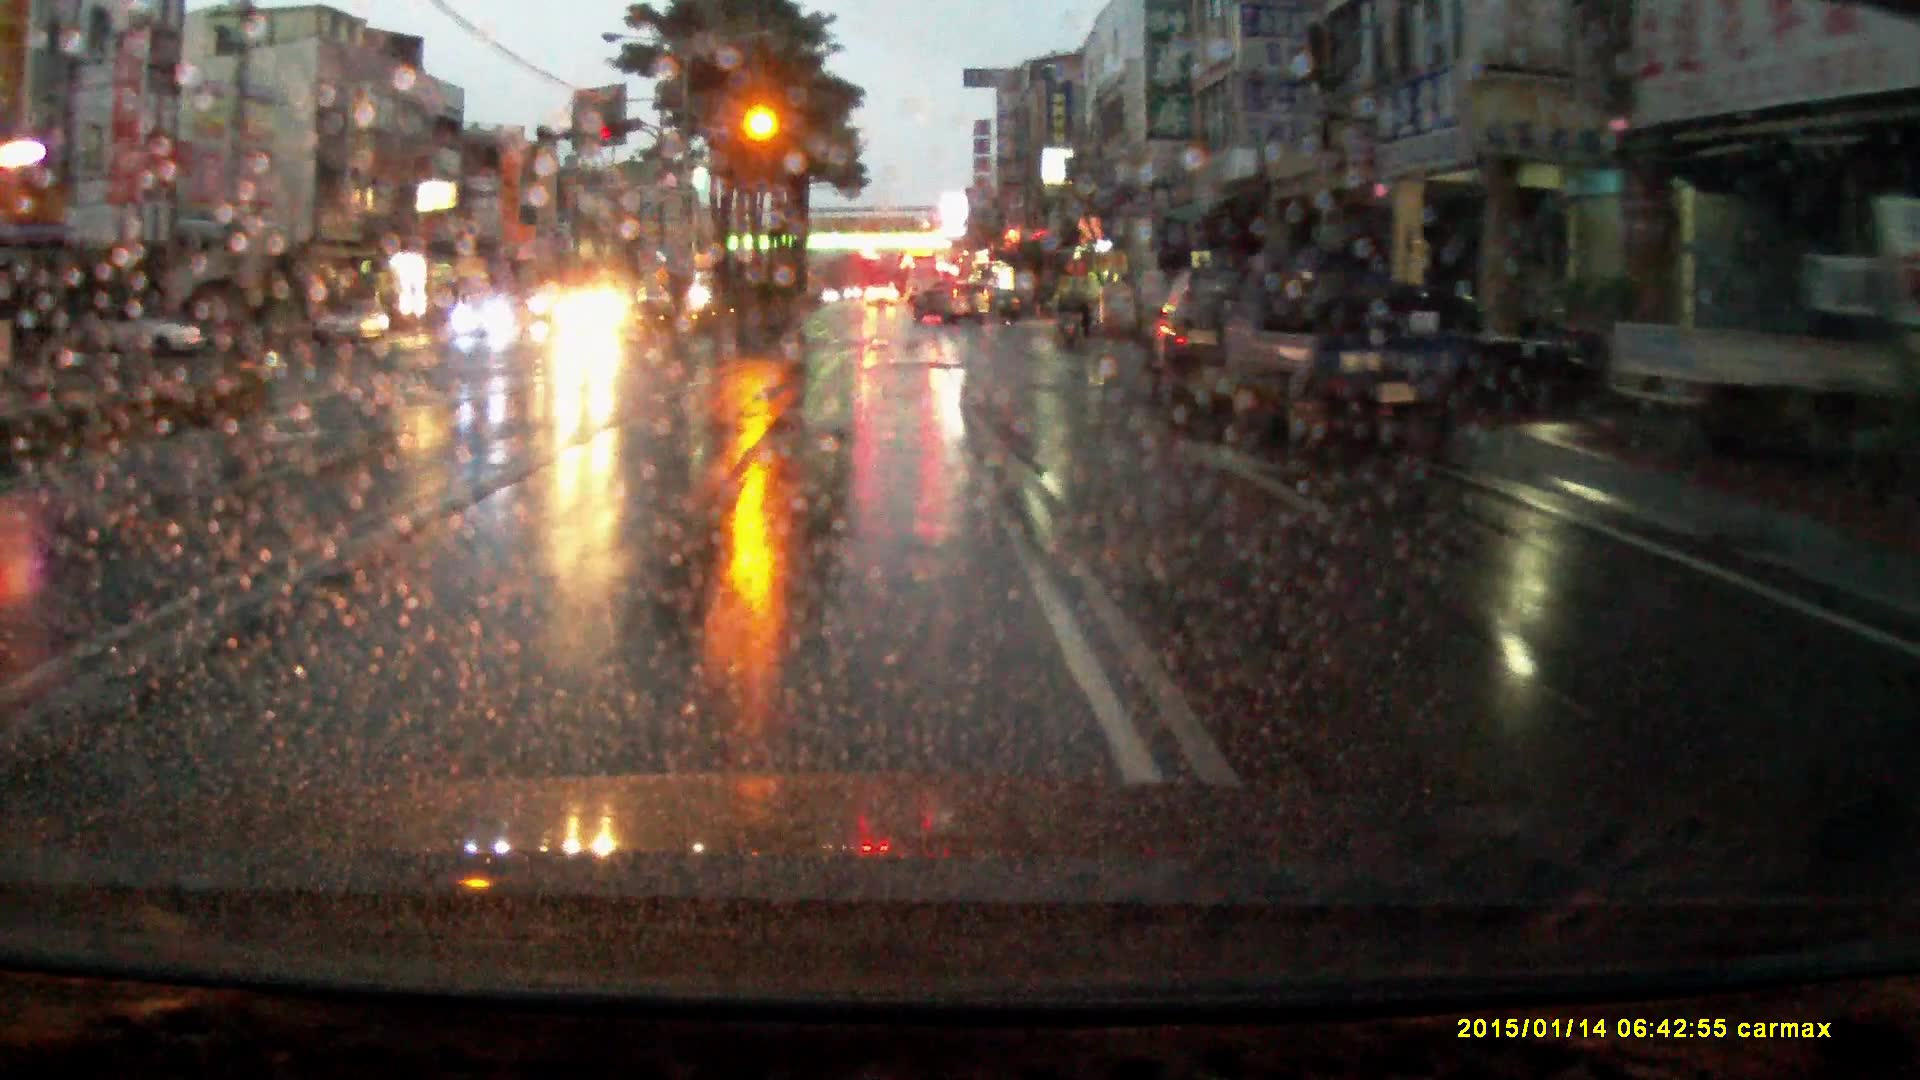vehicle: (1613, 264, 1920, 463), (1233, 243, 1476, 448), (1154, 264, 1244, 421), (84, 309, 203, 363), (553, 287, 632, 349), (318, 299, 392, 353), (916, 281, 994, 328), (454, 295, 520, 342), (198, 305, 258, 355), (907, 258, 944, 305), (988, 290, 1021, 322), (865, 285, 901, 311)
